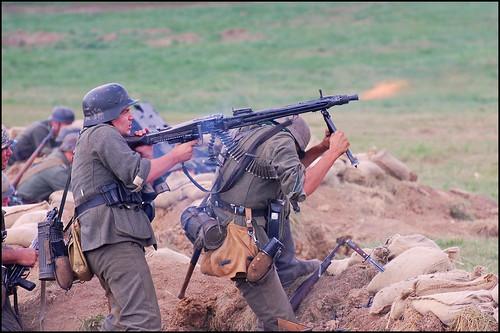grass: (10, 1, 500, 104)
soldier: (56, 81, 163, 333), (202, 117, 314, 333)
weapon: (145, 85, 364, 167)
